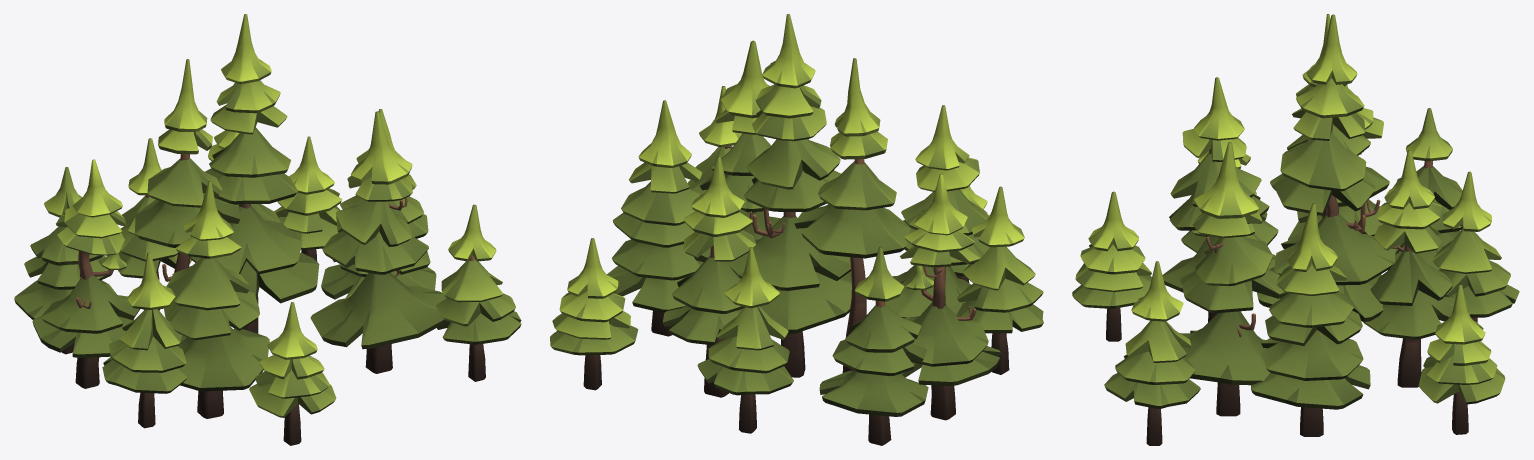
The model's file is pine_tree_arrangement_col1.fbx.
3 renders of one model, left to right at view 1: azimuth 30°, elevation 25°; view 2: azimuth 150°, elevation 25°; view 3: azimuth 270°, elevation 25°, orthographic. The views are drawn at different scales.
Parts seen in each view (by area): view 1: pine_tree_arrangement_col1; view 2: pine_tree_arrangement_col1; view 3: pine_tree_arrangement_col1.
Boxes of the visible parts, x1,y1,x2,y2 form: pine_tree_arrangement_col1: (14, 14, 521, 445); pine_tree_arrangement_col1: (550, 14, 1043, 445); pine_tree_arrangement_col1: (1072, 14, 1519, 445).
Size of the model in its own units: 1859 by 1573 by 1789.
Materials: 1 (1 with a texture image).
